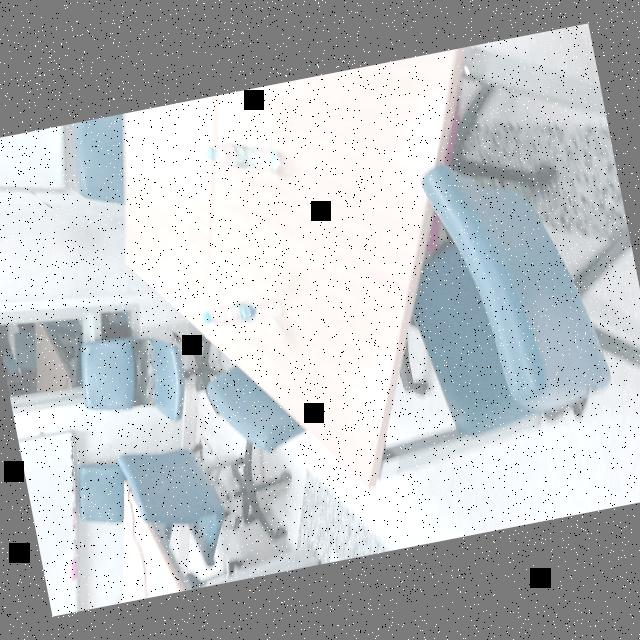plastic_bottle: (200, 130, 284, 190), (198, 290, 286, 334)
plastic_bottle_cap: (202, 144, 214, 160), (201, 310, 212, 323)
straw: (210, 298, 280, 326)
